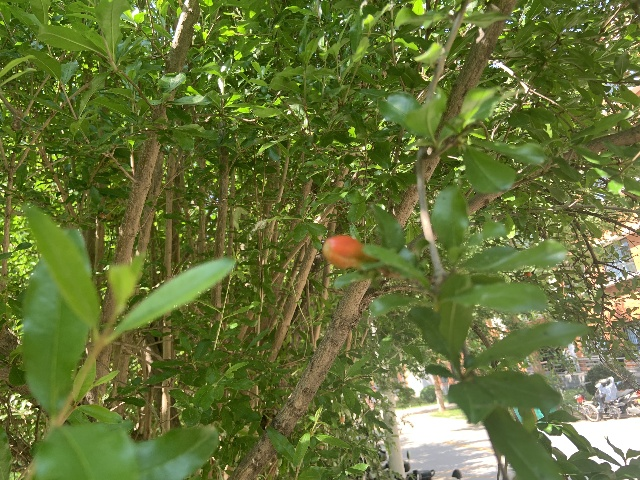bud: (323, 235, 373, 268)
